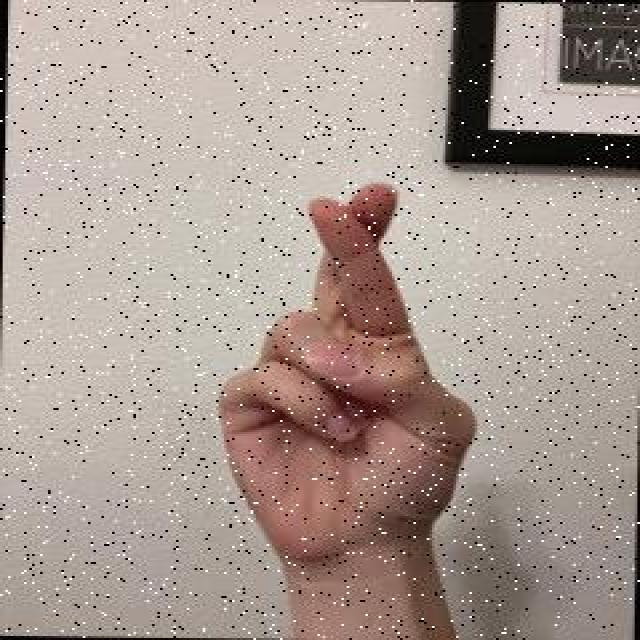R: (203, 169, 493, 579)
